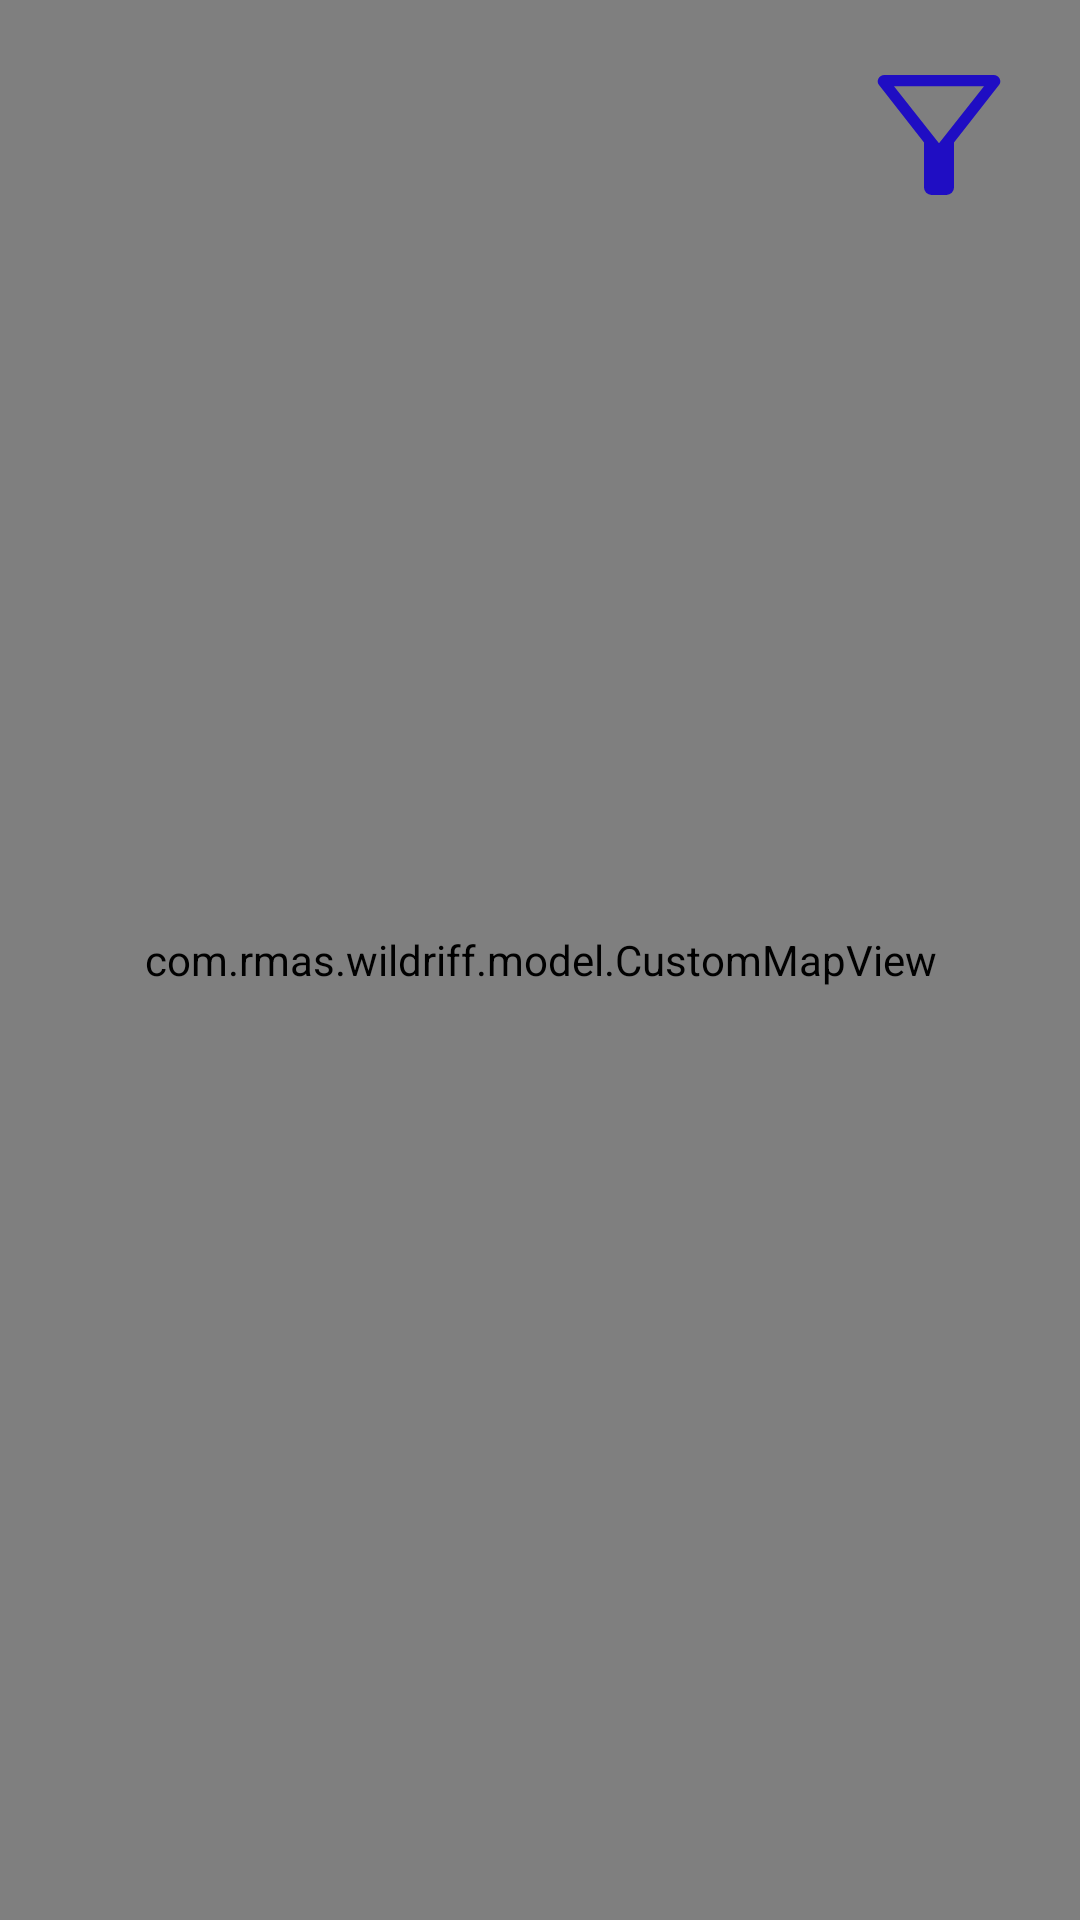

Screen size 1080px×1920px. Icon name, then its center in pixels as [x,y]:
filter: [939,135]
